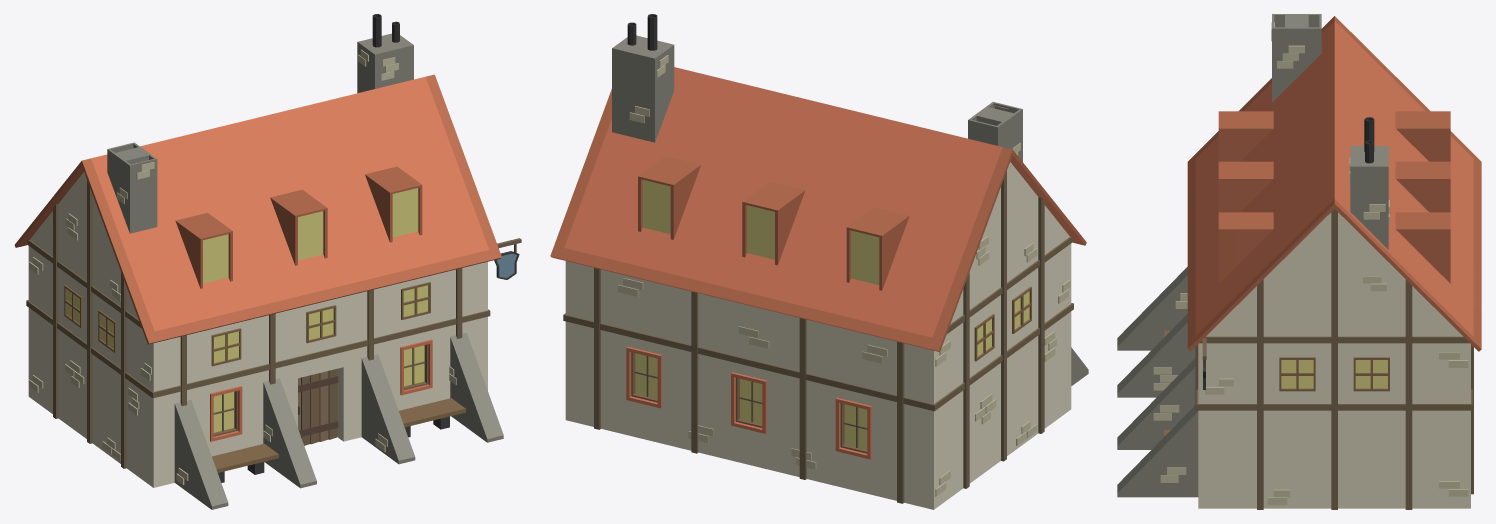
The model's file is House_7.fbx.
3 views of the same model, side by side, from view 1: azimuth 30°, elevation 25°; view 2: azimuth 150°, elevation 25°; view 3: azimuth 270°, elevation 25° (orthographic). The views are drawn at different scales.
Visible parts, largest first — view 1: House_7; view 2: House_7; view 3: House_7.
Part boxes in pixels (x1,y1,x2,y2): House_7: [14, 14, 521, 509]; House_7: [550, 14, 1088, 509]; House_7: [1117, 14, 1481, 509].
Bounding box in the file's own units: 162 × 139 × 123.
Materials: 1 (1 with a texture image).
